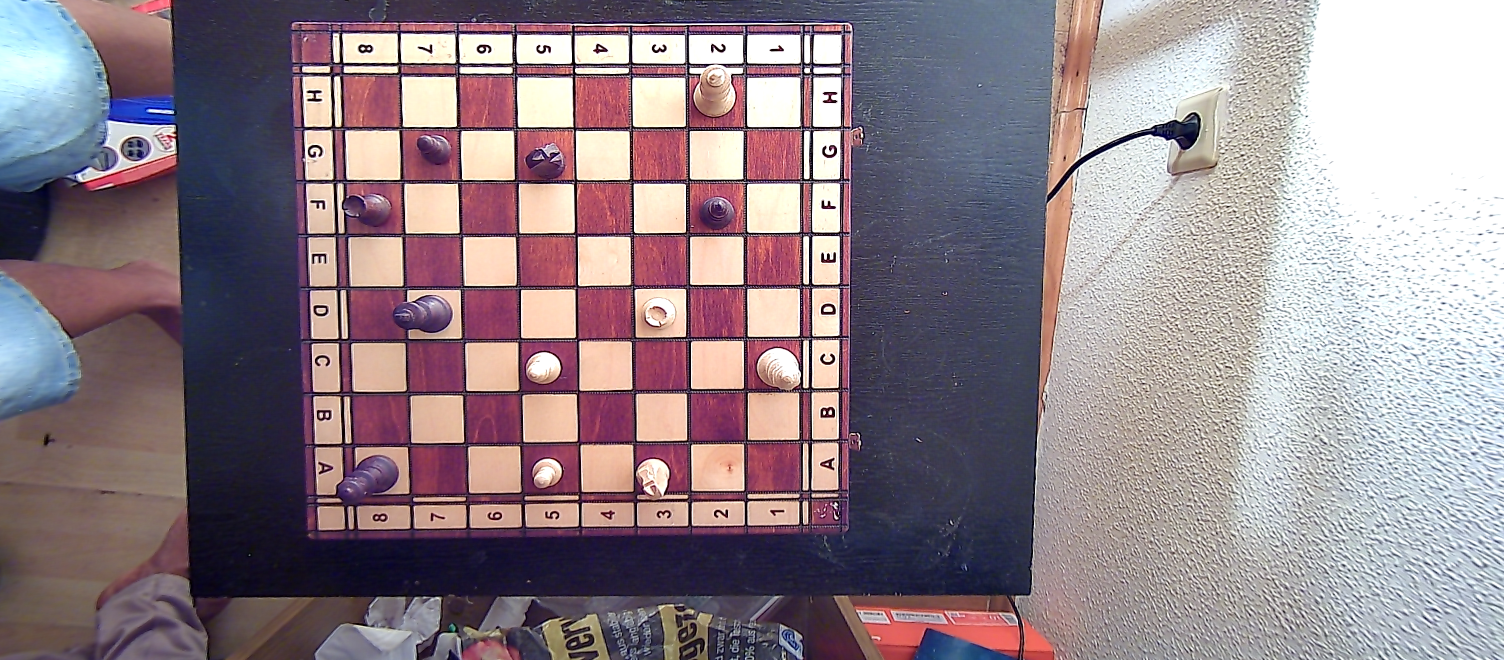black-bishop: (696, 192, 737, 234)
black-king: (391, 293, 453, 335)
black-knight: (522, 139, 568, 182)
black-pawn: (412, 128, 456, 167)
black-queen: (334, 452, 401, 506)
black-rook: (339, 188, 394, 229)
white-bishop: (524, 347, 564, 387)
white-king: (691, 64, 739, 120)
white-knight: (634, 454, 674, 500)
white-pawn: (527, 454, 565, 492)
white-queen: (751, 346, 803, 390)
white-rook: (637, 293, 678, 334)
